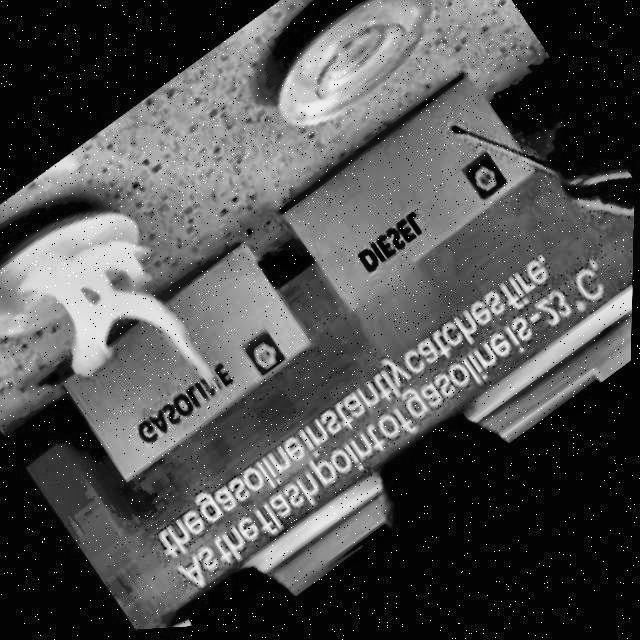Fire: (5, 193, 247, 472)
